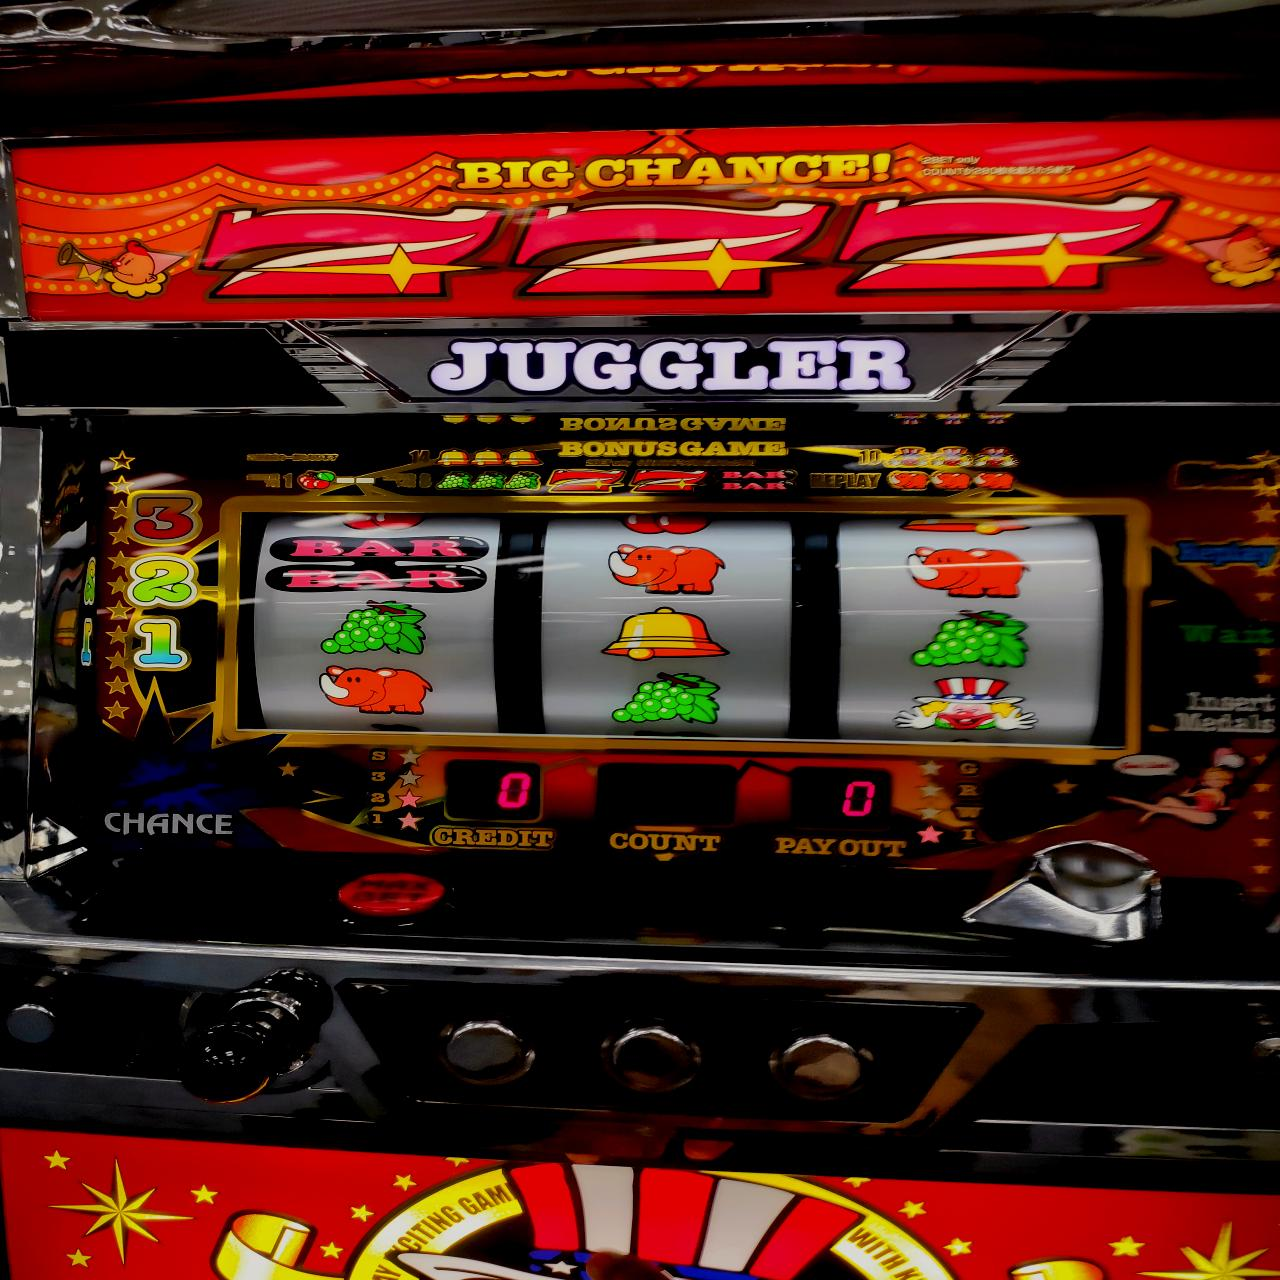8: (607, 543, 730, 595), (907, 546, 1033, 595), (315, 665, 437, 714)
Display: (232, 505, 1137, 749)
bar: (267, 535, 490, 593)
bell: (600, 607, 730, 661)
clown: (891, 679, 1034, 734)
grape: (913, 610, 1029, 669), (606, 673, 723, 726), (320, 599, 425, 654)
